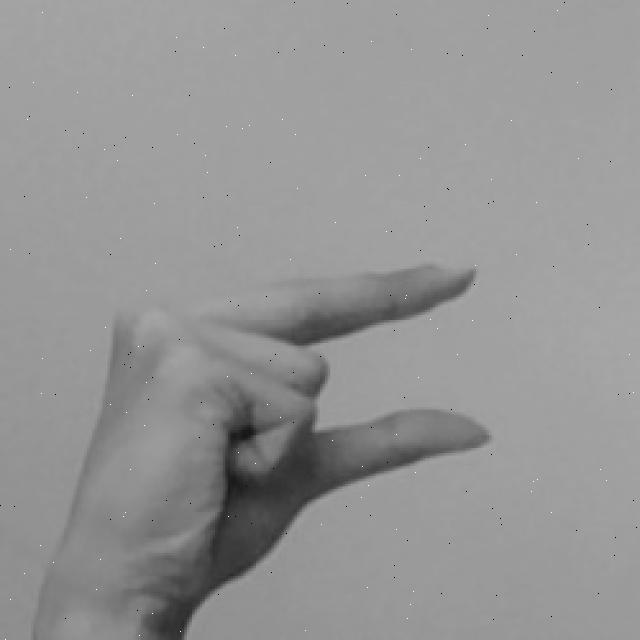G: (13, 260, 496, 640)
